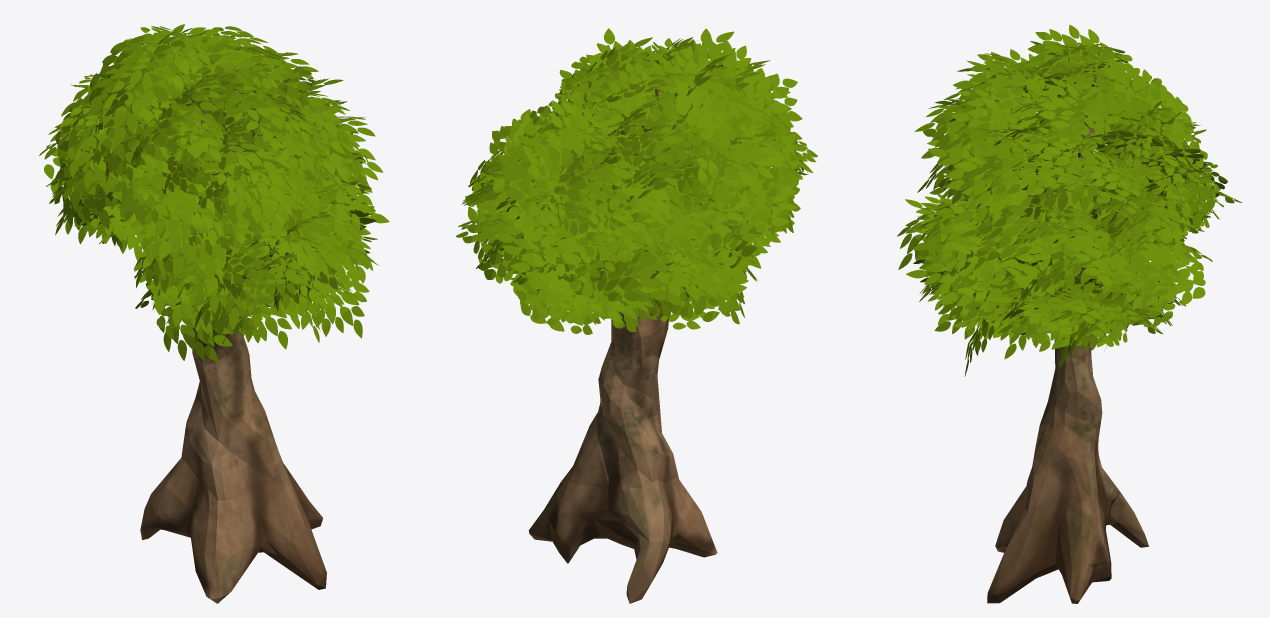
The model's file is tree_collection1.fbx.
3 views of the same model, side by side, from view 1: azimuth 30°, elevation 25°; view 2: azimuth 150°, elevation 25°; view 3: azimuth 270°, elevation 25° (orthographic). The views are drawn at different scales.
Parts seen in each view (by area): view 1: l1; view 2: l1; view 3: l1.
Boxes of the visible parts, x1=… form: l1: x1=39, y1=24, x2=389, y2=603; l1: x1=455, y1=28, x2=817, y2=603; l1: x1=897, y1=24, x2=1242, y2=603.
Size of the model in its own units: 434 by 661 by 439.
